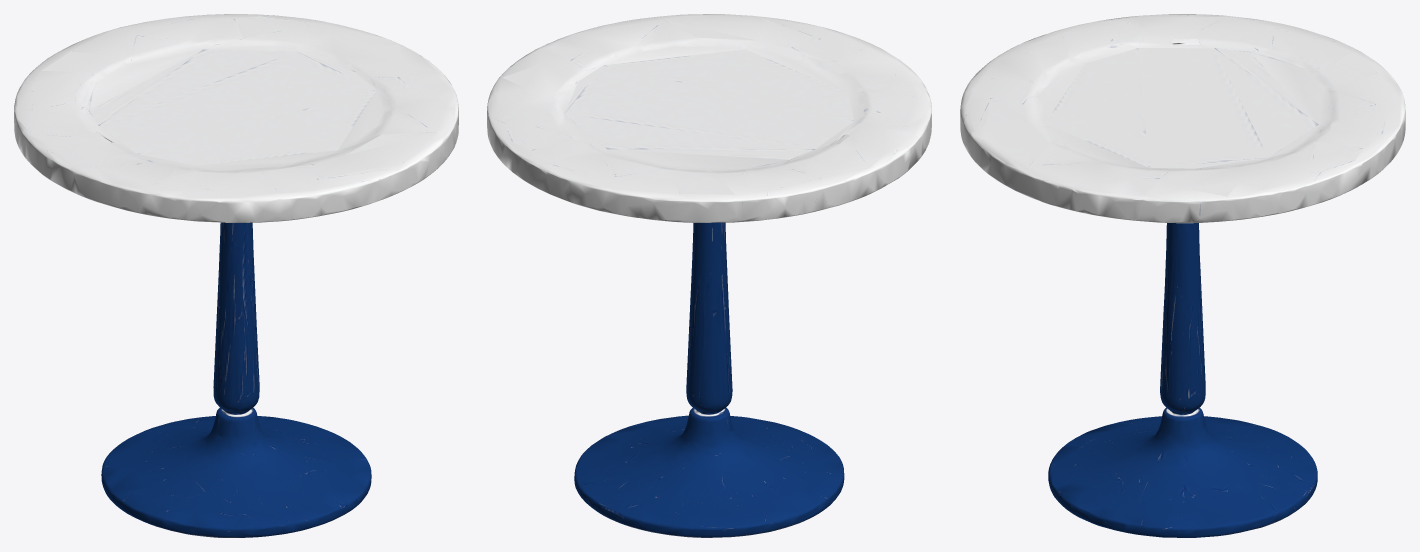
File: addy_bistro_table.obj
3 views of the same model, side by side, from view 1: azimuth 30°, elevation 25°; view 2: azimuth 150°, elevation 25°; view 3: azimuth 270°, elevation 25° (orthographic).
Parts seen in each view (by area): view 1: model; view 2: model; view 3: model.
Boxes of the visible parts, left/top/right/bottom form: model: left=14, top=14, right=458, bottom=537; model: left=487, top=14, right=931, bottom=537; model: left=960, top=14, right=1405, bottom=537.
Size of the model in its own units: 1.9 by 1.78 by 1.9.
